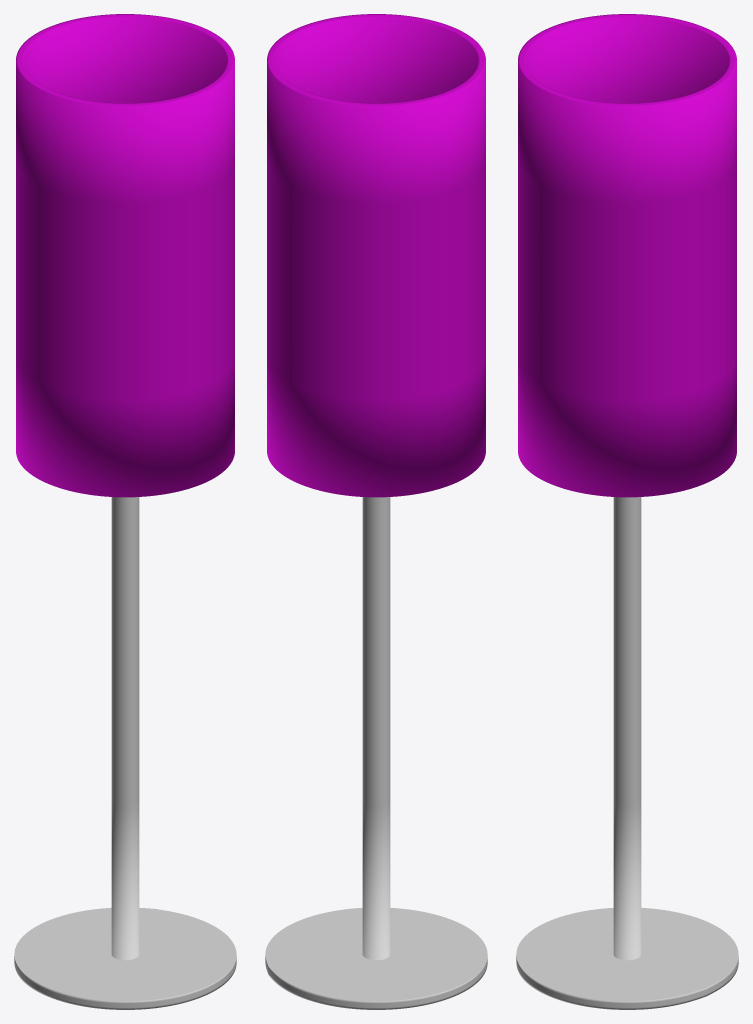
Rendered from FloorLamp.fbx.
The picture shows the model from 3 angles, left to right: view 1: azimuth 30°, elevation 25°; view 2: azimuth 150°, elevation 25°; view 3: azimuth 270°, elevation 25°; orthographic projection.
Parts seen in each view (by area): view 1: Окружность; view 2: Окружность; view 3: Окружность.
Part boxes in pixels (x1,y1,x2,y2): Окружность: [14, 14, 236, 1009]; Окружность: [265, 14, 487, 1009]; Окружность: [516, 14, 738, 1009].
Bounding box in the file's own units: 199 × 891 × 199.
